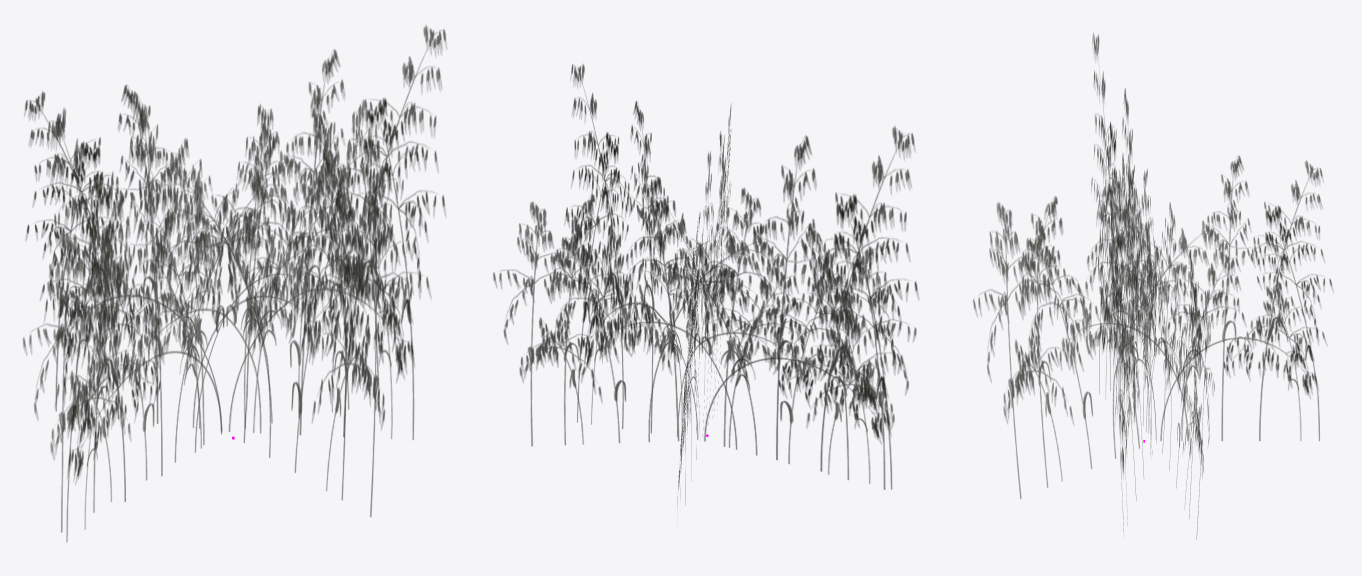
Rendered from Mveg7.glb.
3 renders of one model, left to right at view 1: azimuth 30°, elevation 25°; view 2: azimuth 150°, elevation 25°; view 3: azimuth 270°, elevation 25°, orthographic. The views are drawn at different scales.
Visible parts, largest first — view 1: 01 Mesh0; view 2: 01 Mesh0; view 3: 01 Mesh0.
Part boxes in pixels (left/top/right/bottom): 01 Mesh0: left=23, top=25, right=446, bottom=542; 01 Mesh0: left=493, top=64, right=918, bottom=505; 01 Mesh0: left=973, top=33, right=1333, bottom=539.
Bounding box in the file's own units: 3.64 × 3.51 × 3.33.
Materials: 2 (1 with a texture image).
